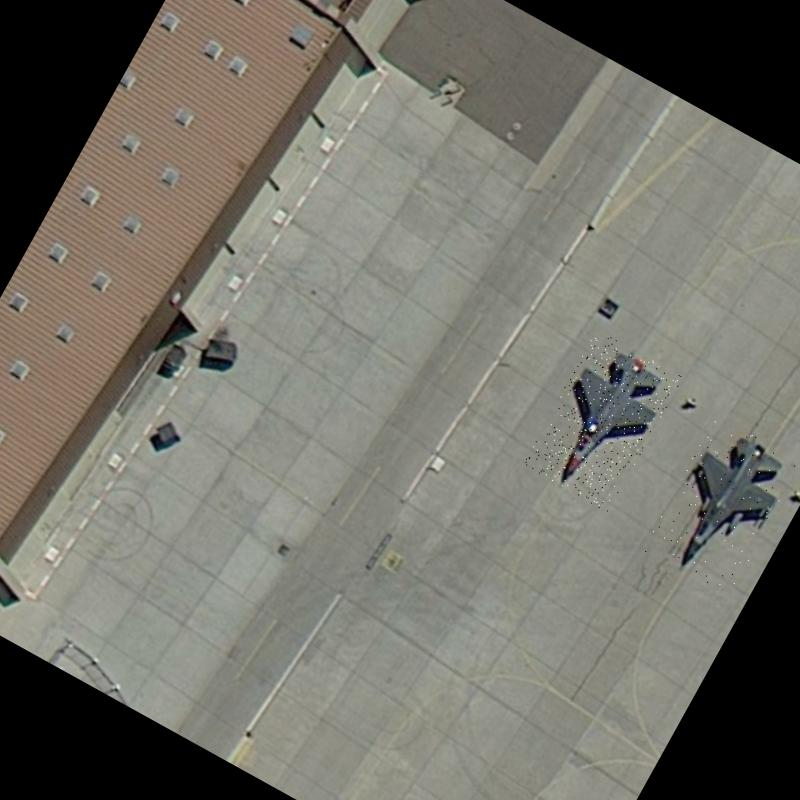A5: (520, 329, 682, 513), (640, 412, 800, 597)
